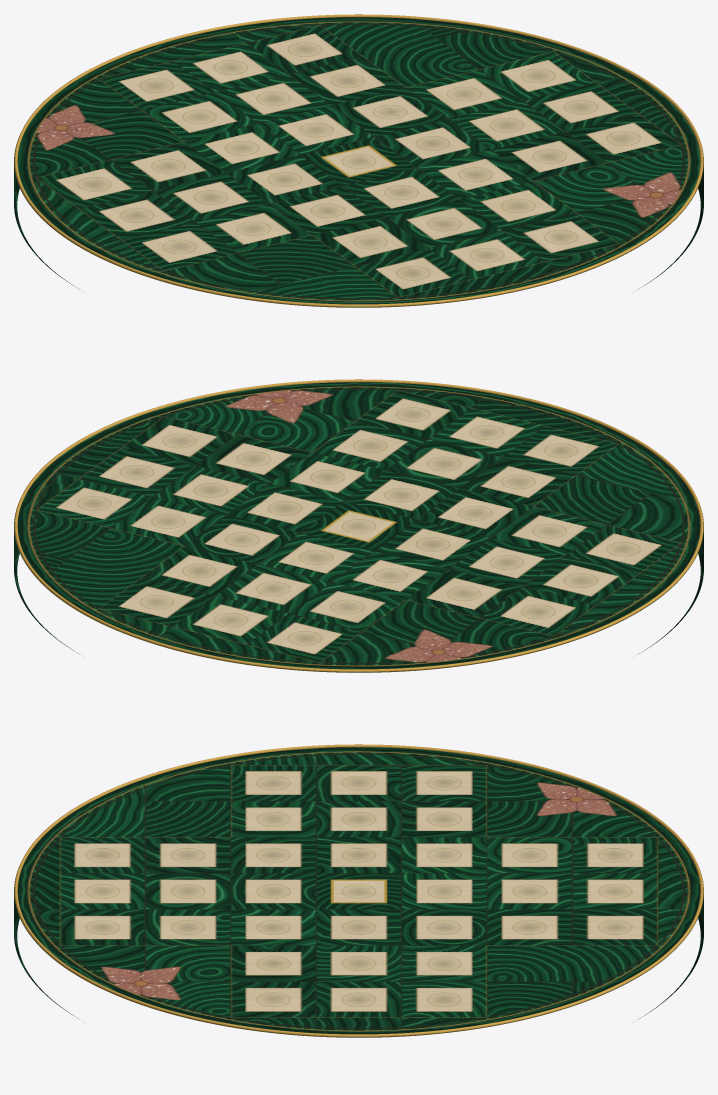
The model's file is board.glb.
3 views of the same model, one above another, from view 1: azimuth 30°, elevation 25°; view 2: azimuth 150°, elevation 25°; view 3: azimuth 270°, elevation 25° (orthographic).
Parts seen in each view (by area): view 1: board; view 2: board; view 3: board.
Boxes of the visible parts, x1,y1,x2,y2 form: board: (14, 14, 703, 307); board: (14, 379, 703, 672); board: (14, 744, 703, 1037).
Size of the model in its own units: 0.42 by 0.0313 by 0.42.
Materials: 4 (2 with a texture image).
